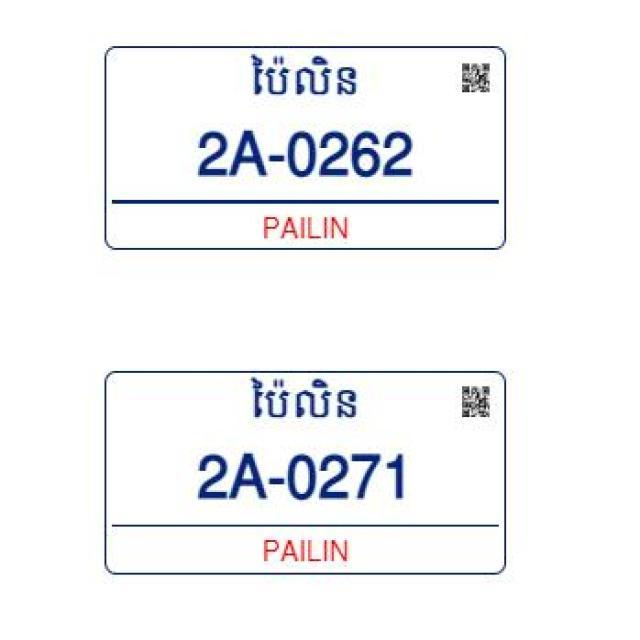Pailin: (238, 48, 366, 110), (240, 367, 363, 429)
